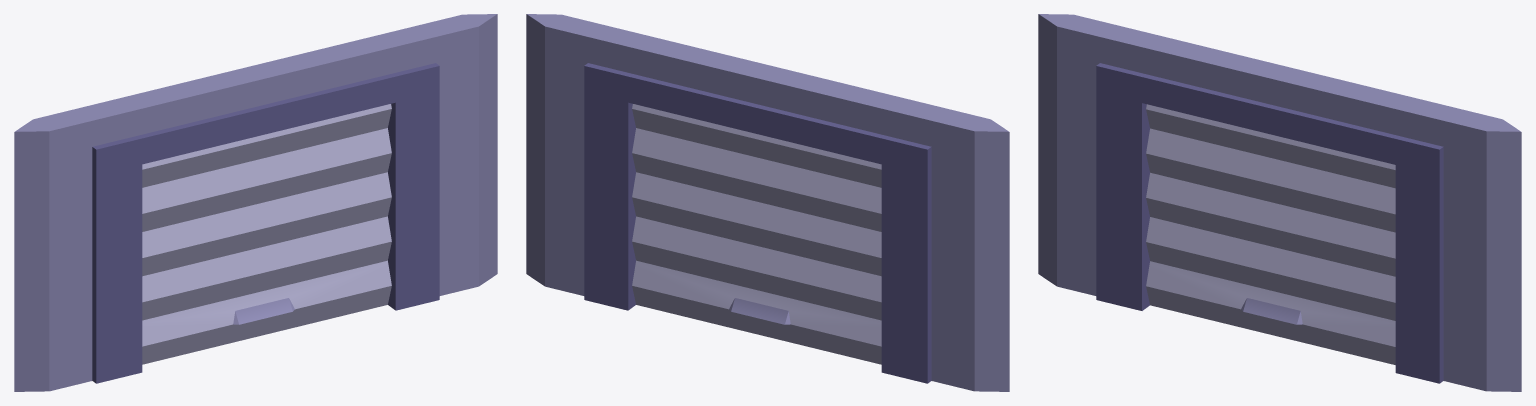
Rendered from GarageDoor.fbx.
The picture shows the model from 3 angles, left to right: view 1: azimuth 30°, elevation 25°; view 2: azimuth 150°, elevation 25°; view 3: azimuth 330°, elevation 25°; orthographic projection.
Parts seen in each view (by area): view 1: doorway_wideGarageRoll, doorway_wide; view 2: doorway_wideGarageRoll, doorway_wide; view 3: doorway_wideGarageRoll, doorway_wide.
Part boxes in pixels (x1,y1,x2,y2): doorway_wideGarageRoll: (14, 14, 497, 391); doorway_wide: (33, 14, 493, 390); doorway_wideGarageRoll: (526, 14, 1009, 391); doorway_wide: (530, 14, 995, 390); doorway_wideGarageRoll: (1038, 14, 1521, 391); doorway_wide: (1044, 15, 1506, 390).
Bounding box in the file's own units: 21.38 × 11 × 1.85.
